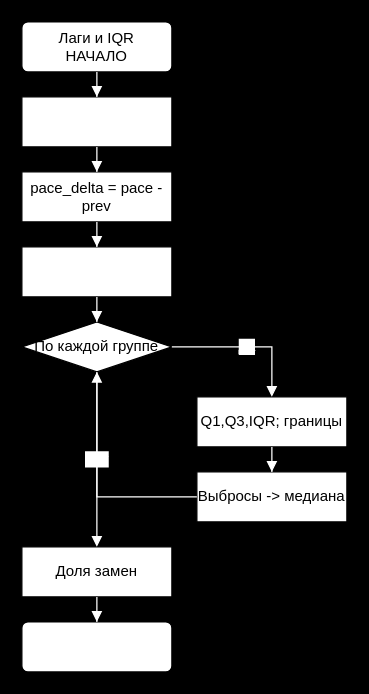
This 369x694 diagram has some shape labels left out. Here are the shapes that lost their labels. From the top down, the centre of each, then its label:
At point (96, 121): "prev_pace = roll(pace, 1)".
At point (96, 271): "Доли роста/падения pace".
At point (96, 646): "КОНЕЦ IQR".
